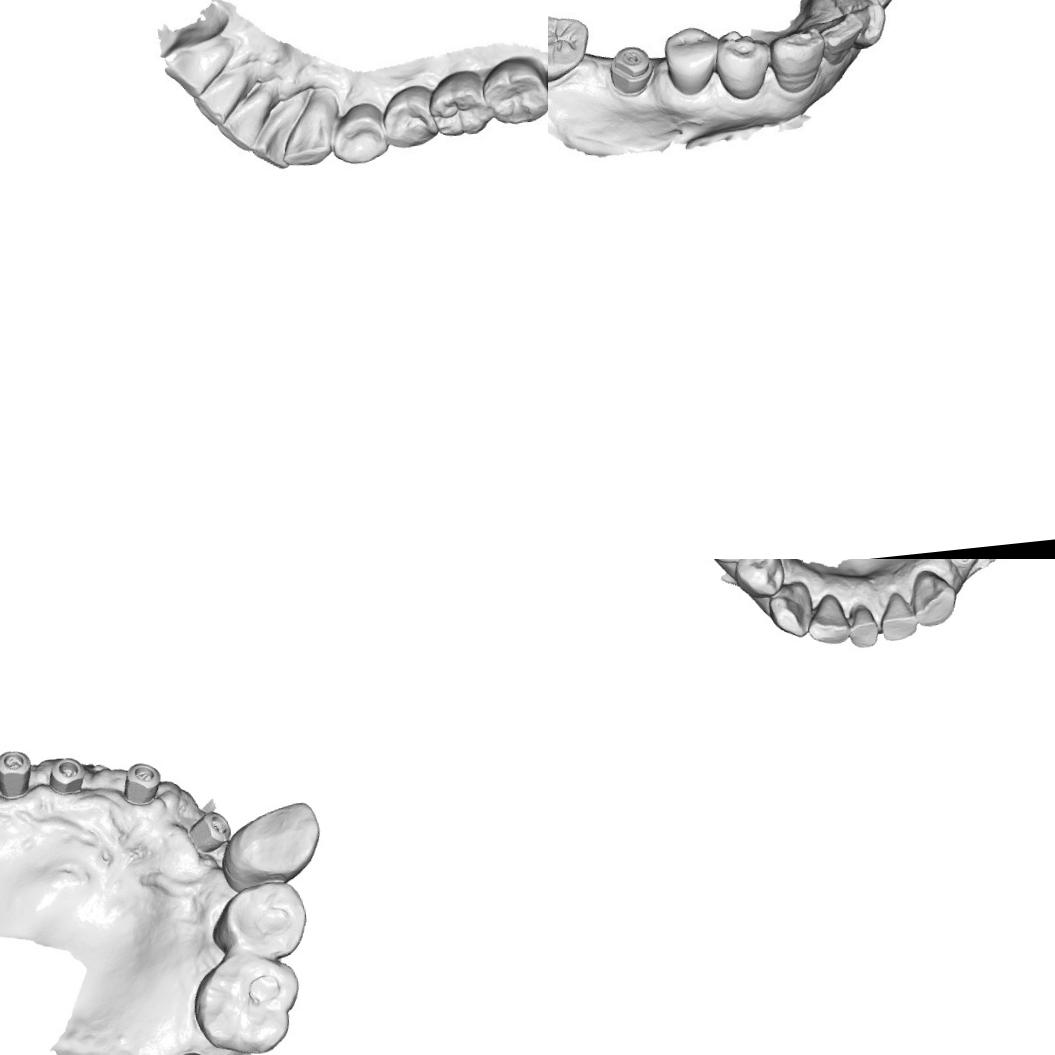canine: (218, 796, 326, 886), (766, 22, 830, 98), (278, 89, 339, 163), (766, 576, 814, 641)
implant: (186, 808, 234, 850), (121, 757, 164, 800), (0, 747, 33, 802), (43, 753, 86, 795)
implant_minus: (602, 44, 658, 96), (946, 559, 980, 570)
incisor: (246, 90, 318, 164), (160, 35, 235, 96), (213, 83, 280, 150), (193, 66, 254, 126), (908, 566, 959, 630), (814, 3, 866, 64), (804, 588, 854, 648), (876, 589, 922, 643), (841, 1, 888, 46), (844, 602, 880, 650), (833, 0, 893, 16)
molar: (186, 946, 306, 1055), (483, 56, 548, 129), (428, 72, 494, 140), (548, 4, 596, 88)
premolar: (204, 878, 310, 964), (711, 22, 773, 104), (661, 23, 723, 98), (327, 103, 388, 165), (382, 85, 434, 147), (730, 559, 788, 602)
